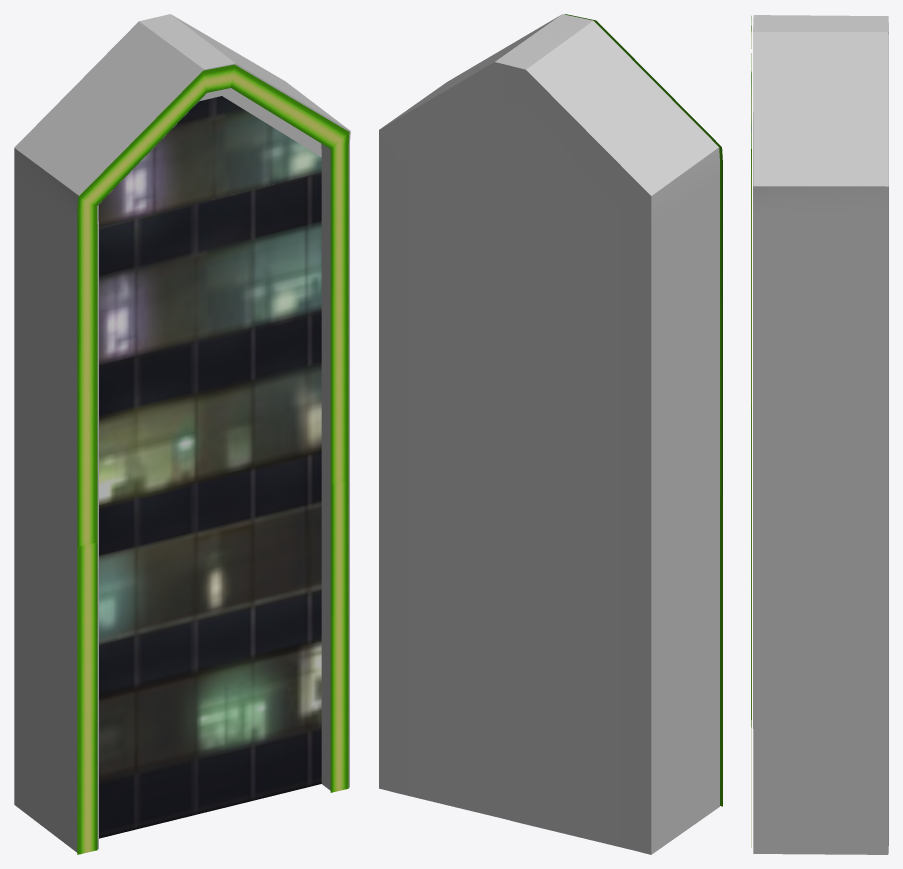
Rendered from hirise_side_01c.fbx.
3 views of the same model, side by side, from view 1: azimuth 30°, elevation 25°; view 2: azimuth 150°, elevation 25°; view 3: azimuth 270°, elevation 25° (orthographic).
Parts seen in each view (by area): view 1: hirise_side_01c; view 2: hirise_side_01c; view 3: hirise_side_01c.
Boxes of the visible parts, x1,y1,x2,y2 form: hirise_side_01c: (14,14,350,854); hirise_side_01c: (379,14,722,854); hirise_side_01c: (751,15,888,854).
Size of the model in its own units: 6.04 by 15.77 by 2.57.
